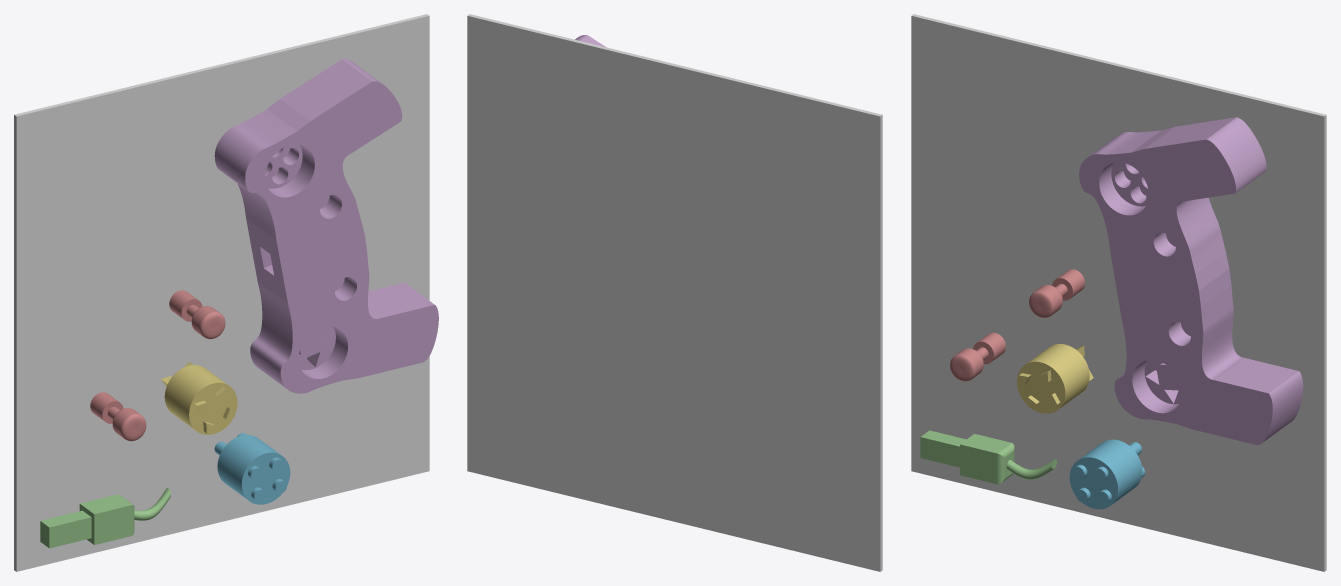
Rendered from pickup_layout.glb.
3 renders of one model, left to right at view 1: azimuth 30°, elevation 25°; view 2: azimuth 150°, elevation 25°; view 3: azimuth 330°, elevation 25°, orthographic.
Parts seen in each view (by area): view 1: world, 3.obj, 4.obj, 2.obj, 1.obj, 0.obj, 5.obj; view 2: world; view 3: world, 3.obj, 4.obj, 2.obj, 1.obj, 0.obj, 5.obj.
Boxes of the visible parts, x1=… form: world: x1=14, y1=14, x2=429, y2=571; 3.obj: x1=214, y1=59, x2=438, y2=393; 4.obj: x1=40, y1=488, x2=170, y2=548; 2.obj: x1=214, y1=433, x2=290, y2=504; 1.obj: x1=161, y1=362, x2=237, y2=434; 0.obj: x1=90, y1=392, x2=146, y2=441; 5.obj: x1=169, y1=290, x2=225, y2=339; world: x1=467, y1=14, x2=882, y2=571; world: x1=911, y1=14, x2=1326, y2=571; 3.obj: x1=1079, y1=117, x2=1303, y2=445; 4.obj: x1=920, y1=430, x2=1056, y2=484; 2.obj: x1=1069, y1=439, x2=1145, y2=509; 1.obj: x1=1017, y1=344, x2=1093, y2=413; 0.obj: x1=950, y1=332, x2=1005, y2=381; 5.obj: x1=1029, y1=269, x2=1085, y2=317.
Bounding box in the file's own units: 19.59 × 20.65 × 3.2.
